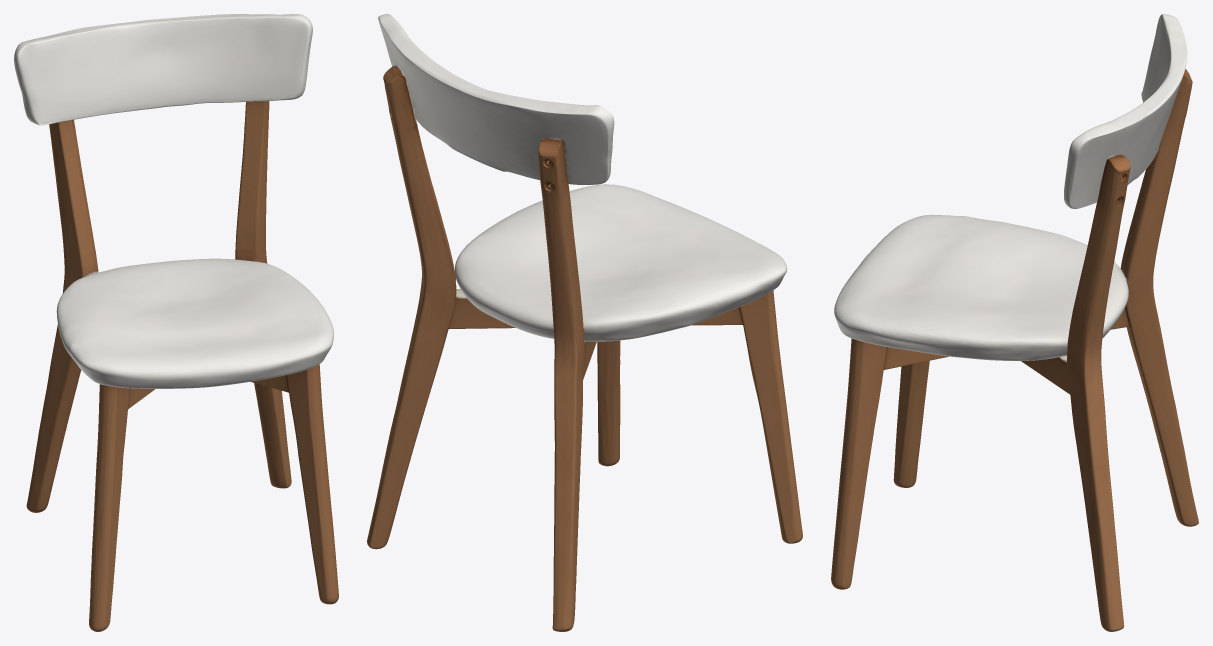
The model's file is Elior.glb.
3 renders of one model, left to right at view 1: azimuth 30°, elevation 25°; view 2: azimuth 150°, elevation 25°; view 3: azimuth 270°, elevation 25°, orthographic. The views are drawn at different scales.
Visible parts, largest first — view 1: tripo_node_b9119c55-5844-4f61-b522-0bb7440c306a; view 2: tripo_node_b9119c55-5844-4f61-b522-0bb7440c306a; view 3: tripo_node_b9119c55-5844-4f61-b522-0bb7440c306a.
Boxes of the visible parts, x1,y1,x2,y2 form: tripo_node_b9119c55-5844-4f61-b522-0bb7440c306a: (14,14,338,631); tripo_node_b9119c55-5844-4f61-b522-0bb7440c306a: (367,14,802,631); tripo_node_b9119c55-5844-4f61-b522-0bb7440c306a: (831,14,1198,631).
Size of the model in its own units: 0.6505 by 0.9781 by 0.6532.
1 material, 1 textured.
